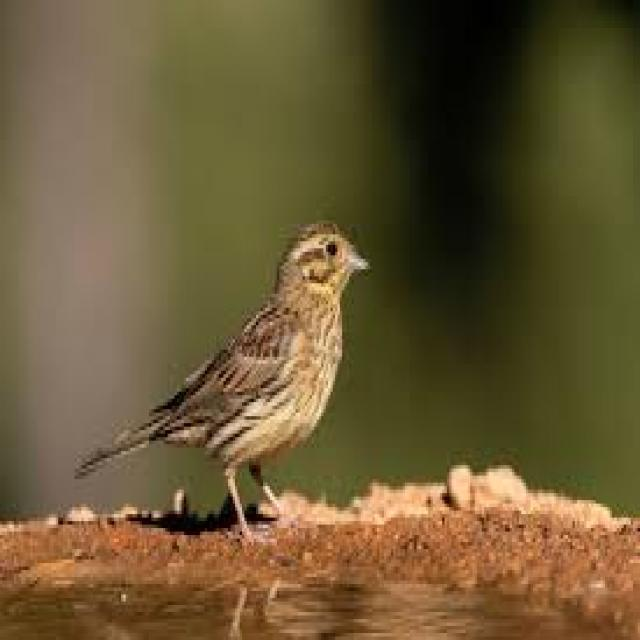bird: (43, 174, 406, 608)
